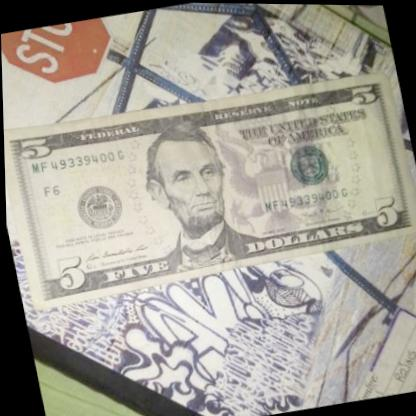five-front: (1, 62, 416, 310)
